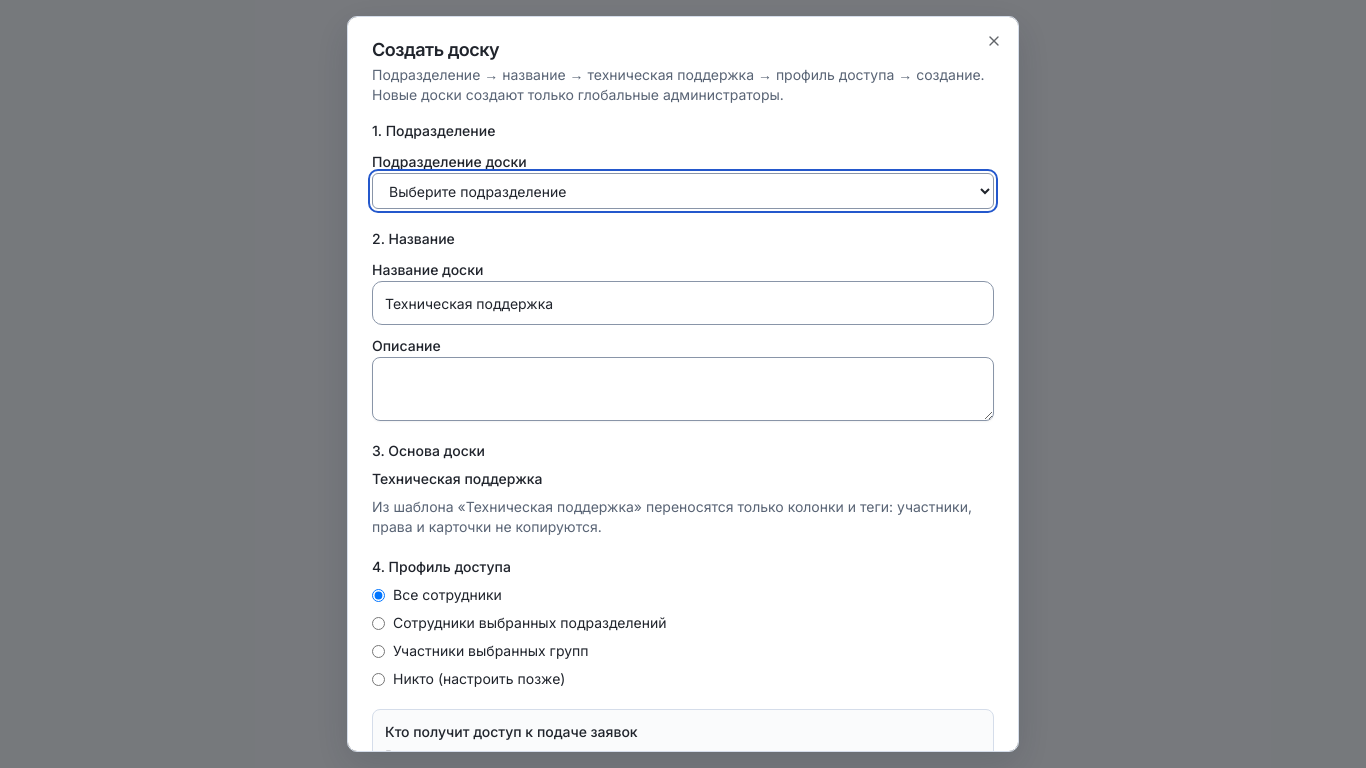
board creation scenario › requires a subject before submitting a narrowed profile
This screenshot has width=1366, height=768.
Type "Доска" into the field labelled "Название доски" at (683, 303), box left=372, top=281, right=994, bottom=325
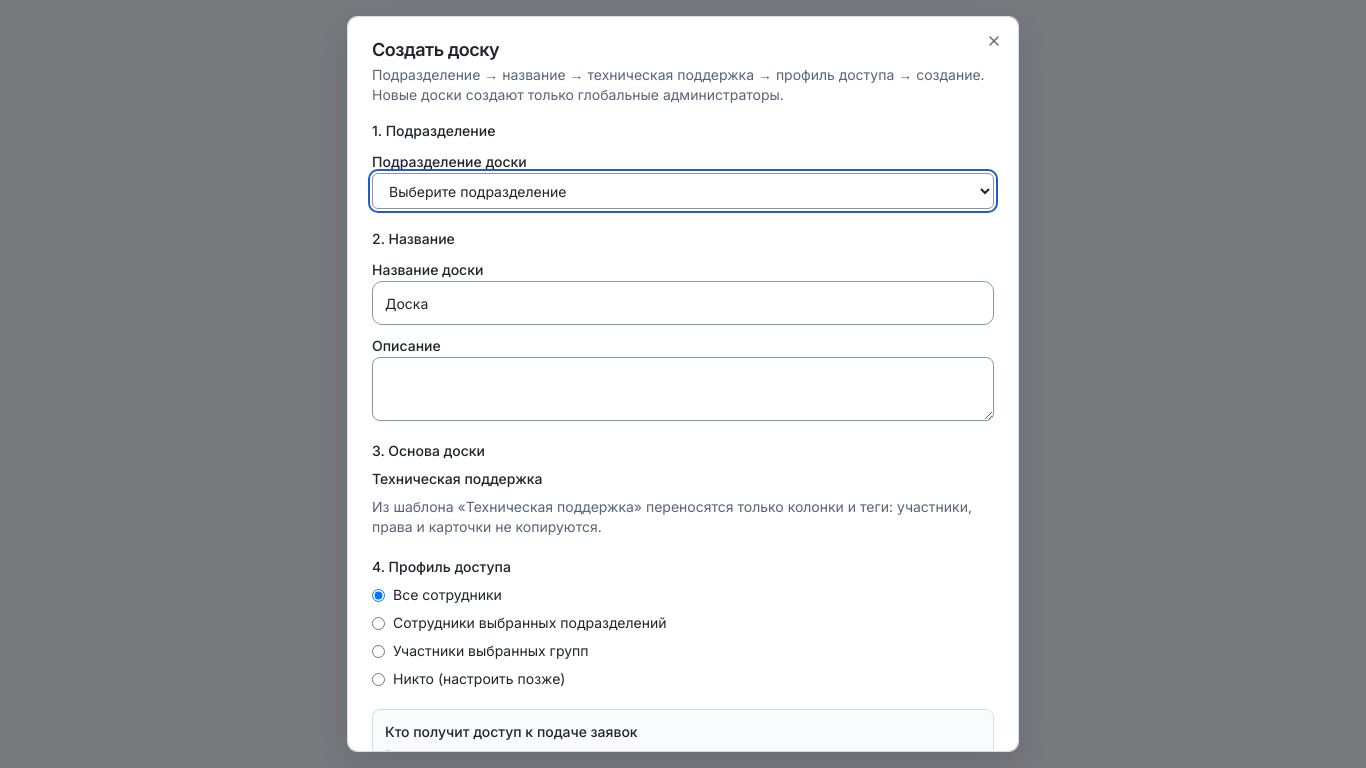
Click the radio button labelled "Сотрудники выбранных подразделений" at (378, 623), box left=372, top=616, right=385, bottom=630
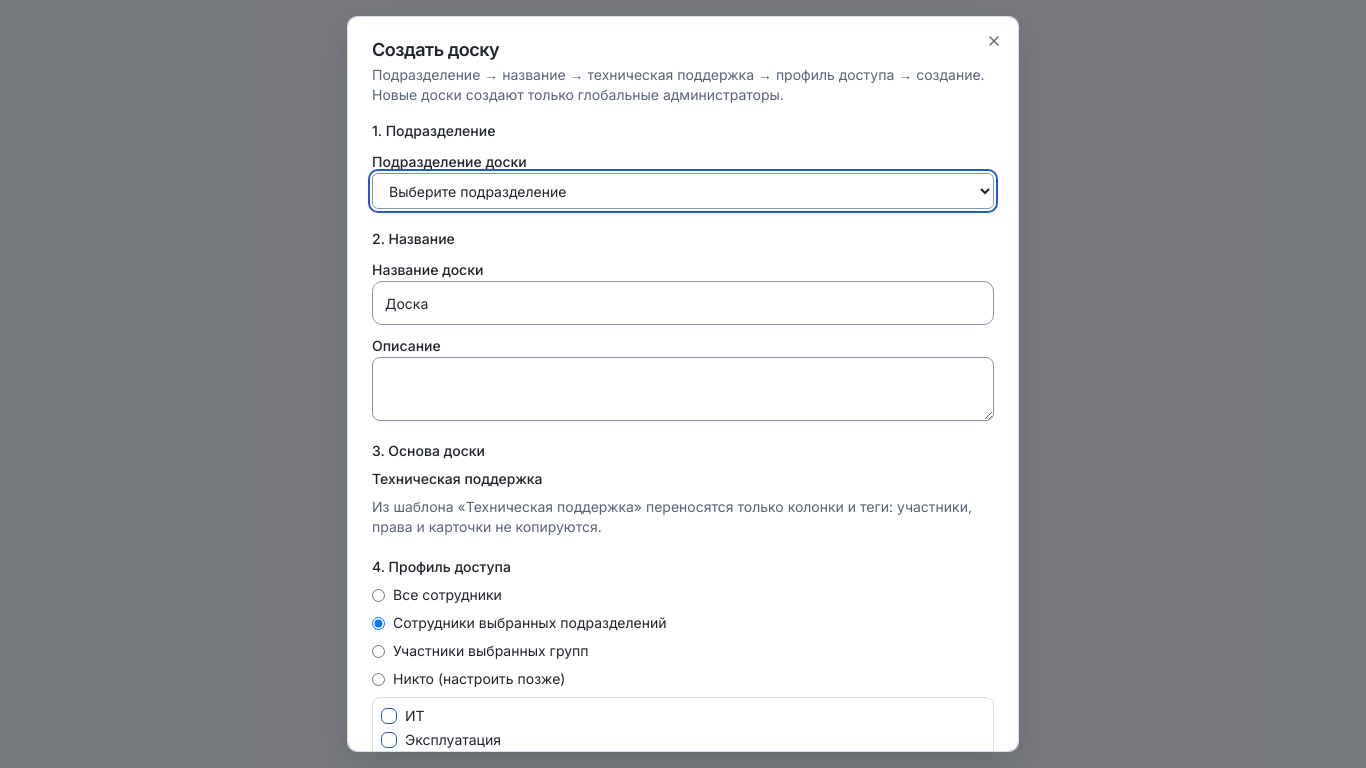
Select "ИТ" in the dropdown labelled "Подразделение доски" at (683, 191), box left=372, top=173, right=994, bottom=209
(page scrolled)
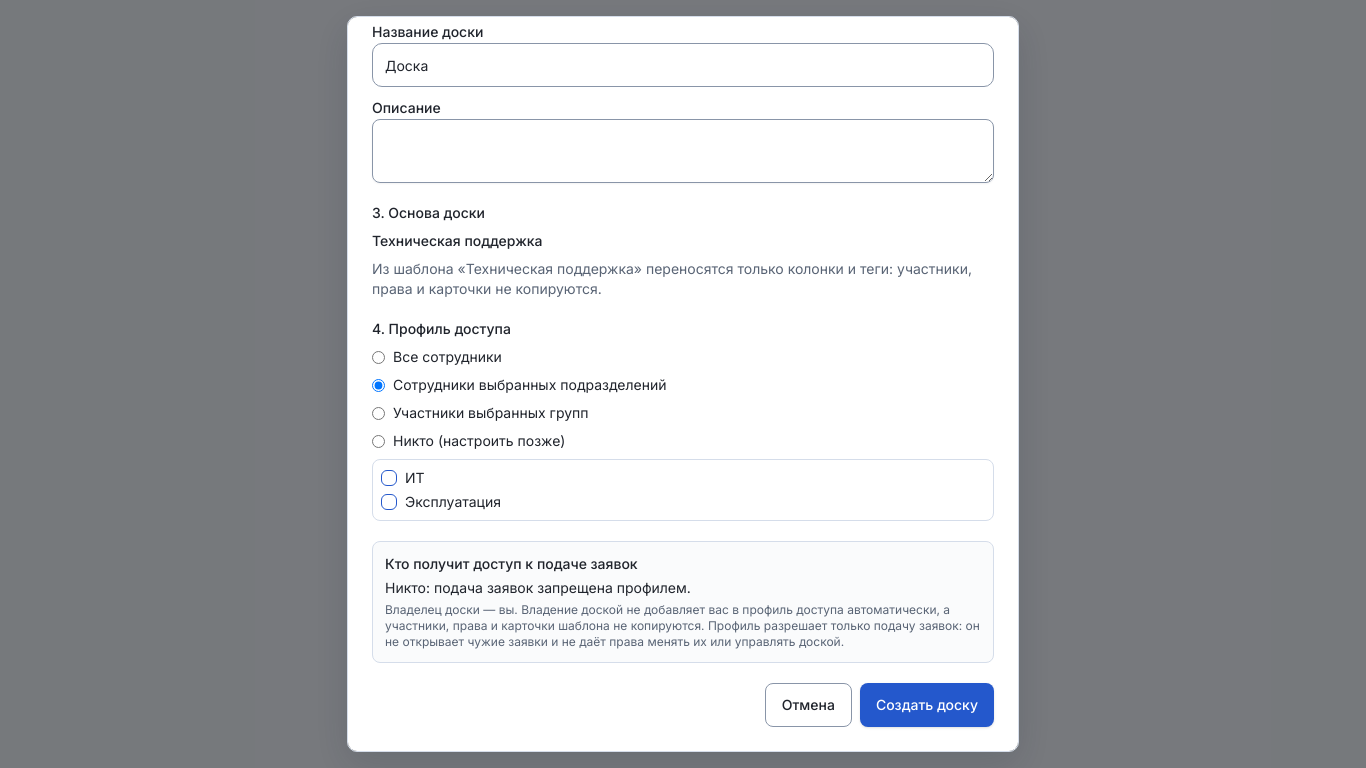
Click the button "Создать доску" at (927, 705), box left=860, top=683, right=994, bottom=727
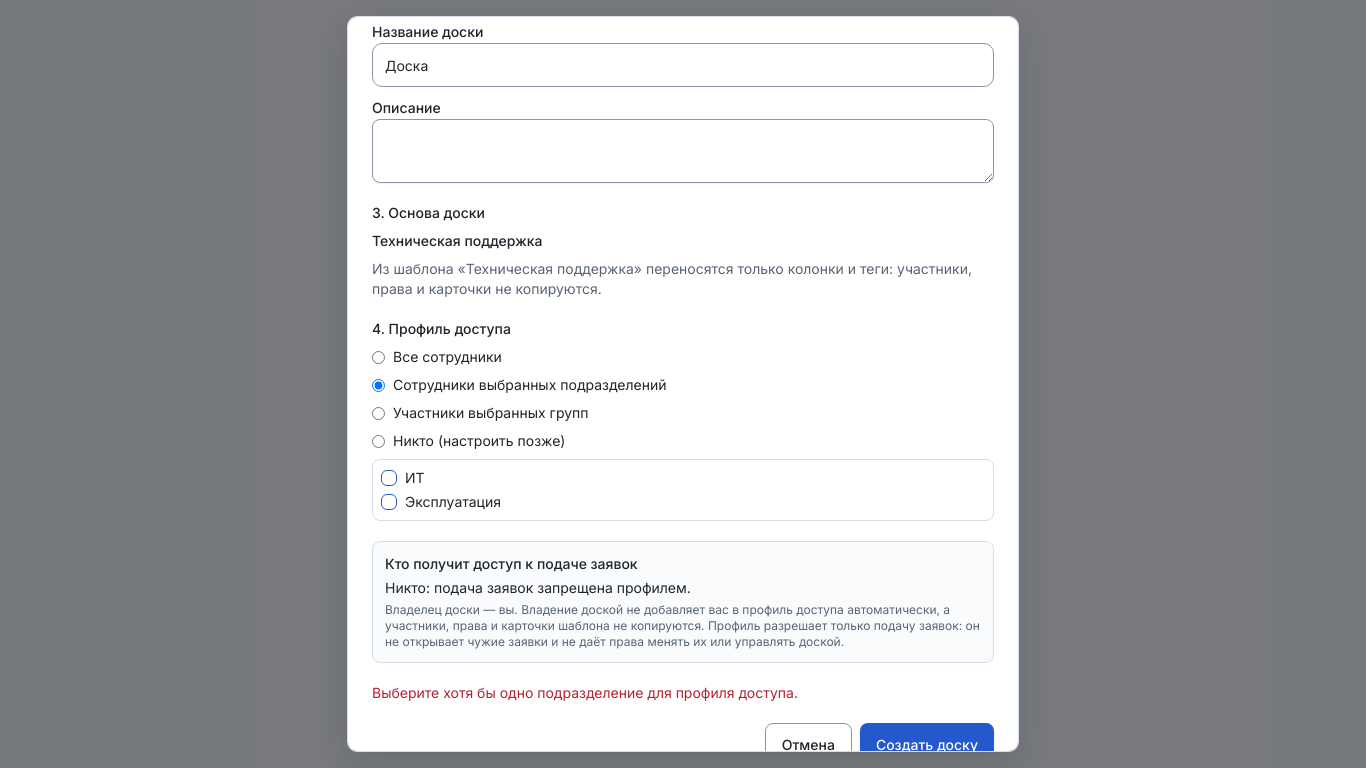
Expected: the message shows "Выберите хотя бы одно подразделение", left=372, top=684, right=798, bottom=701
